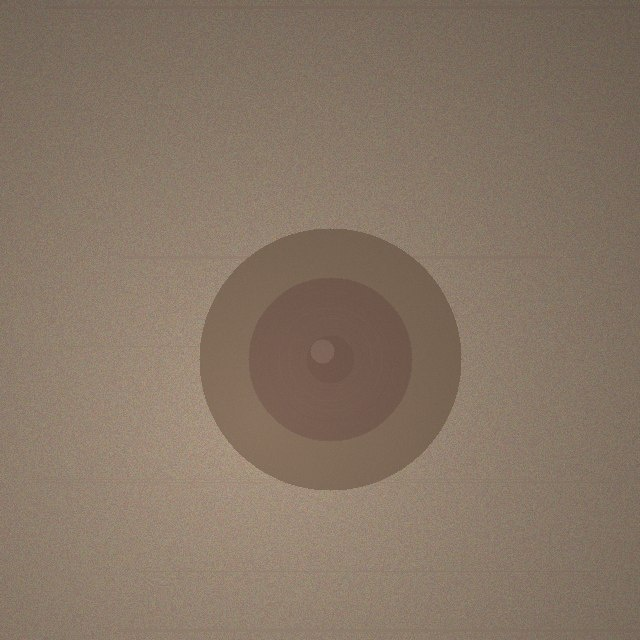good: (199, 228, 461, 490)
